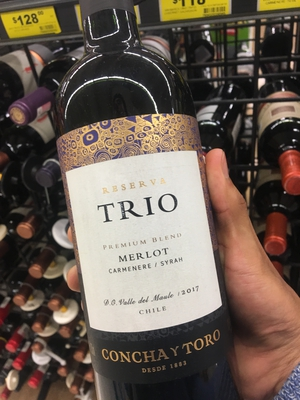trio merlot: (55, 9, 235, 400)
